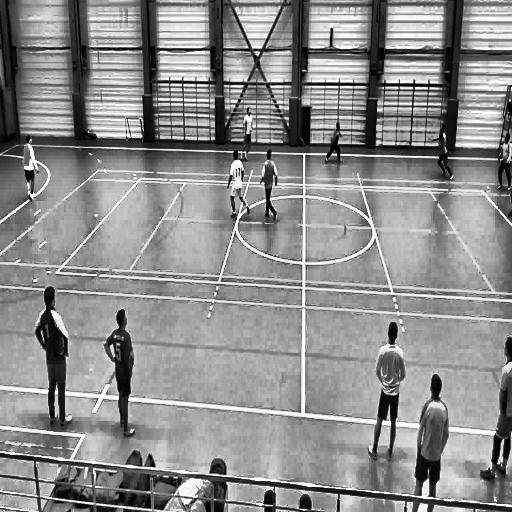ball: (364, 45, 369, 53)
